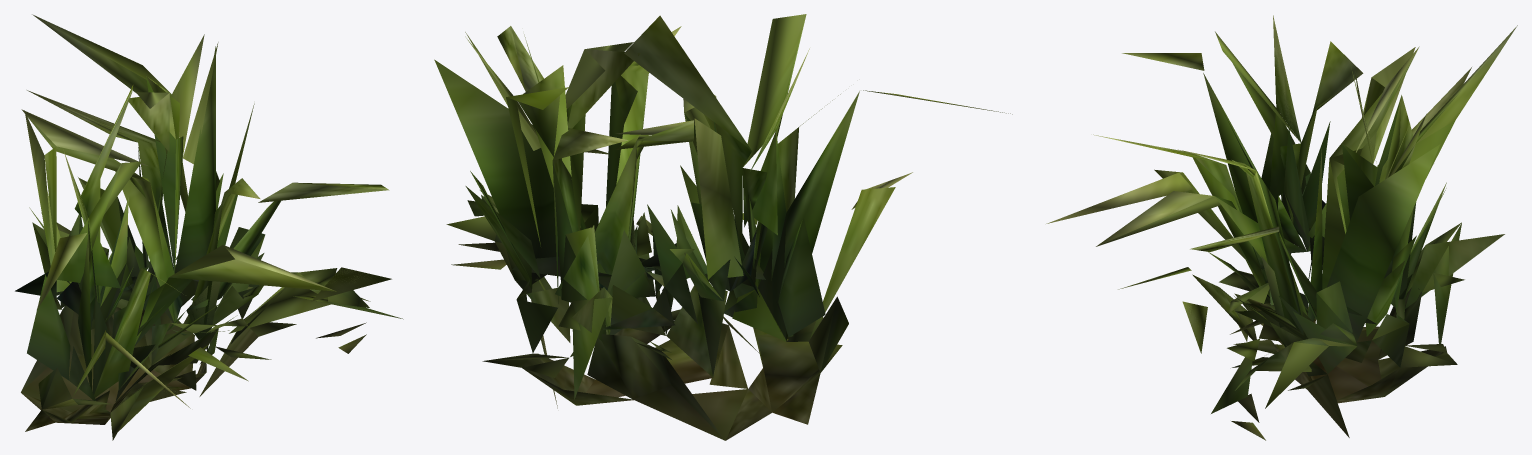
The model's file is grass_tuft_3_lite.glb.
The picture shows the model from 3 angles, left to right: view 1: azimuth 30°, elevation 25°; view 2: azimuth 150°, elevation 25°; view 3: azimuth 270°, elevation 25°; orthographic projection. The views are drawn at different scales.
Visible parts, largest first — view 1: tripo_node_7ac3d90a-8751-476c-9687-198a5a3f9aa1.001; view 2: tripo_node_7ac3d90a-8751-476c-9687-198a5a3f9aa1.001; view 3: tripo_node_7ac3d90a-8751-476c-9687-198a5a3f9aa1.001.
Part boxes in pixels (bbox=[...]): tripo_node_7ac3d90a-8751-476c-9687-198a5a3f9aa1.001: bbox=[15, 14, 403, 440]; tripo_node_7ac3d90a-8751-476c-9687-198a5a3f9aa1.001: bbox=[434, 14, 1012, 440]; tripo_node_7ac3d90a-8751-476c-9687-198a5a3f9aa1.001: bbox=[1046, 15, 1517, 440].
Size of the model in its own units: 0.4084 by 0.3293 by 0.3835.
1 material, 1 textured.
